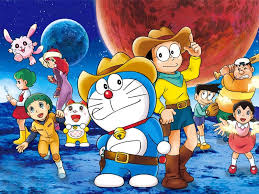doraemon: (87, 70, 172, 189)
